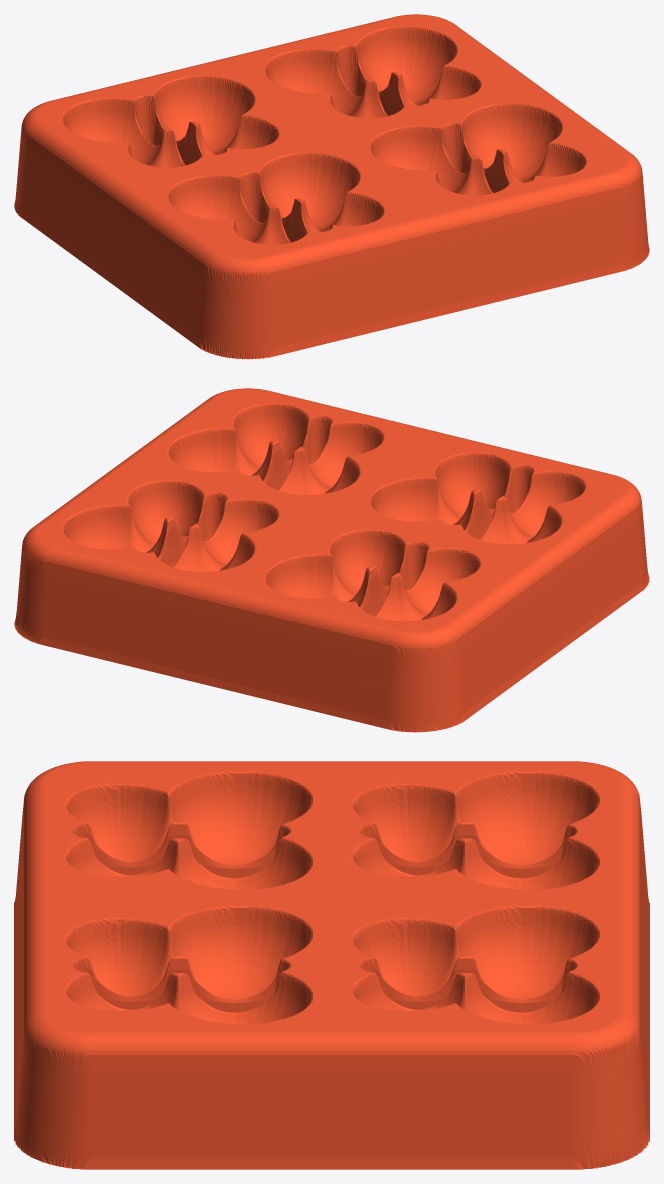
The model's file is mold.glb.
3 renders of one model, top to bottom at view 1: azimuth 30°, elevation 25°; view 2: azimuth 150°, elevation 25°; view 3: azimuth 270°, elevation 25°, orthographic. The views are drawn at different scales.
Parts seen in each view (by area): view 1: geometry_0; view 2: geometry_0; view 3: geometry_0.
Boxes of the visible parts, left/top/right/bottom form: geometry_0: left=14, top=14, right=649, bottom=359; geometry_0: left=14, top=388, right=649, bottom=732; geometry_0: left=14, top=761, right=649, bottom=1169.
Size of the model in its own units: 0.0808 by 0.0159 by 0.0736.
